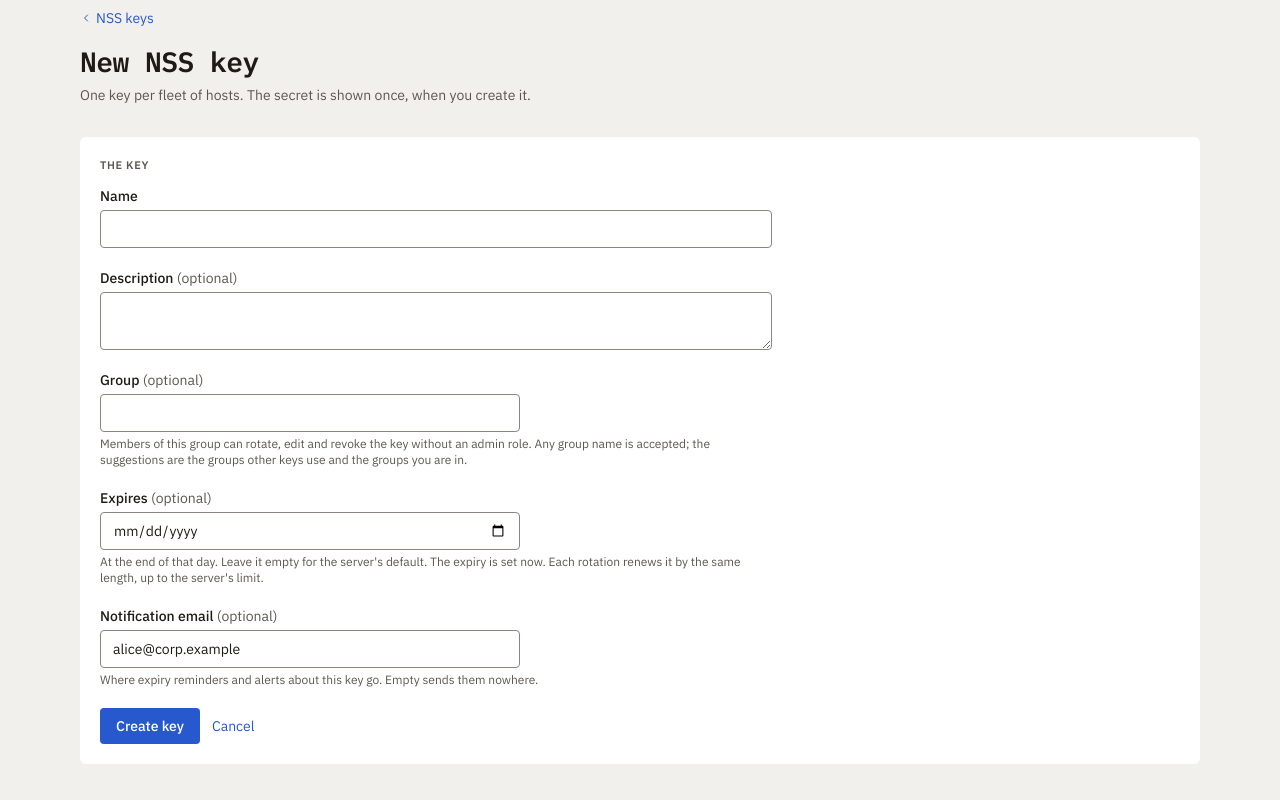
it: New NSS key › proposed expiry › should say to choose a later day when a past day is typed
The width and height of the screenshot is (1280, 800).
In the date field with test id "nss-key-expires": (310,530) [100,512,520,550], type "2026-10-01"
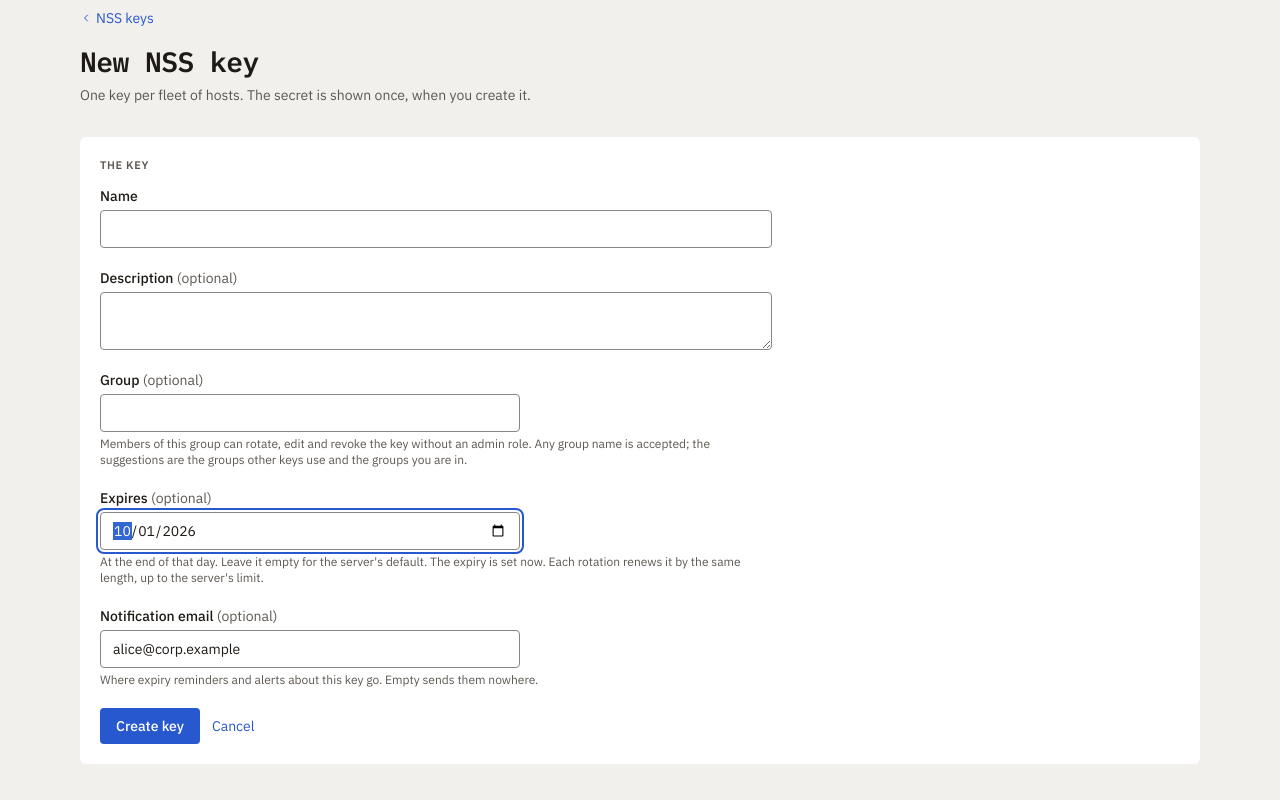
In the field with test id "nss-key-name": (436,228) [100,210,772,248], type "web fleet"
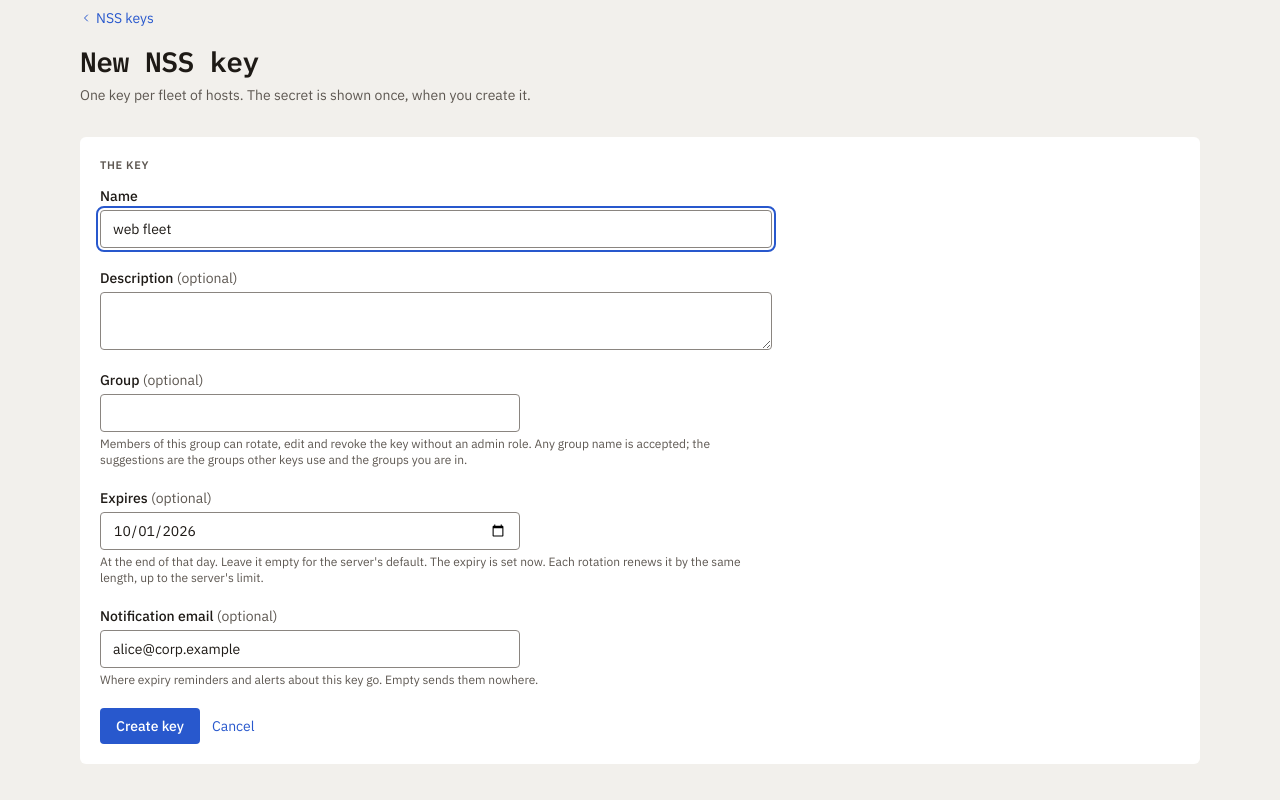
Click the button with test id "nss-key-create": (150,726) [100,708,200,744]
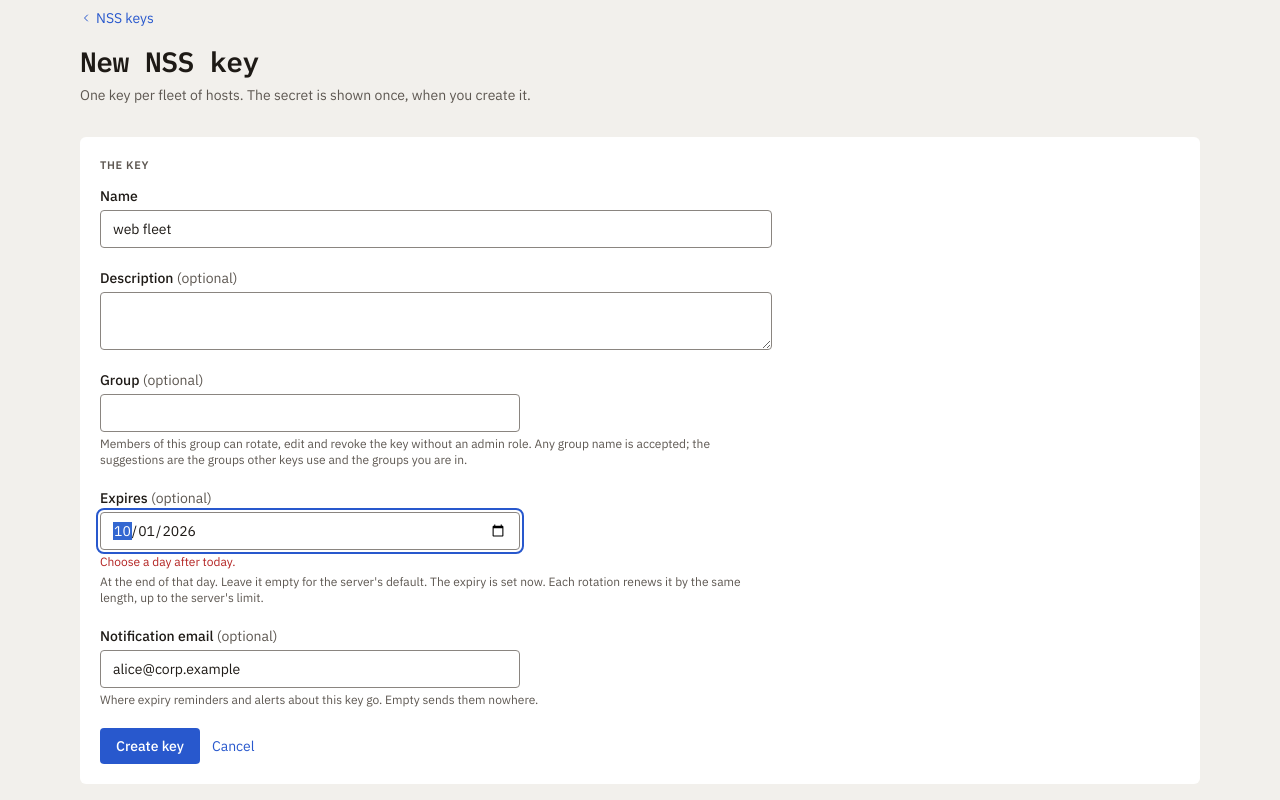
Now the text with test id "nss-key-expires-error" reads "Choose a day after today.", box [100,554,235,568]
